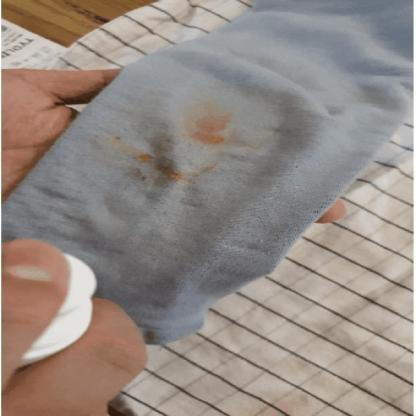kimchi: (191, 104, 229, 154), (107, 132, 157, 163), (150, 154, 179, 181), (126, 164, 149, 187), (198, 158, 220, 177)
